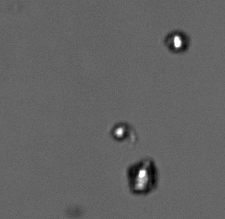Living Cell: (126, 156, 160, 195), (166, 28, 190, 53), (110, 121, 130, 142)
